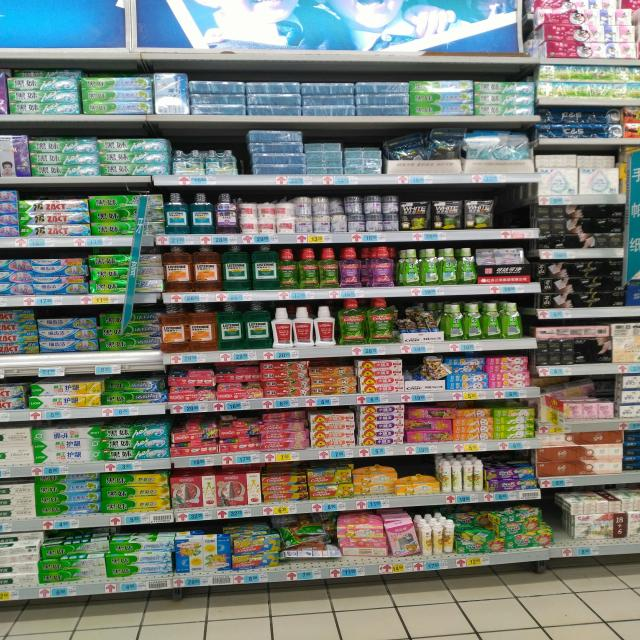empty: (486, 186, 533, 232), (551, 493, 575, 555)
